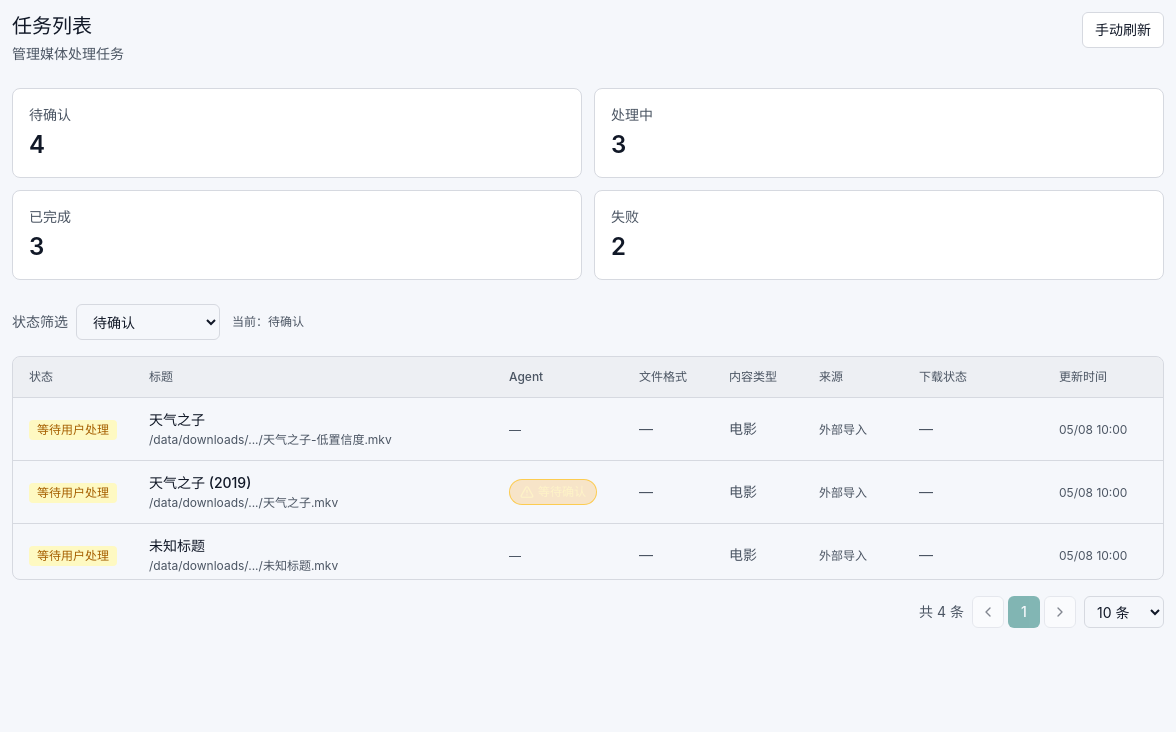
Test: TaskListPage › initializes filter from URL query param
This screenshot has width=1176, height=732.
Expected: the text "共 4 条" is shown, [919,602,964,622]
Note: 用户切换到"已完成"
Select "已完成" in the dropdown labelled "状态筛选" at (148, 322), box [76,304,220,340]
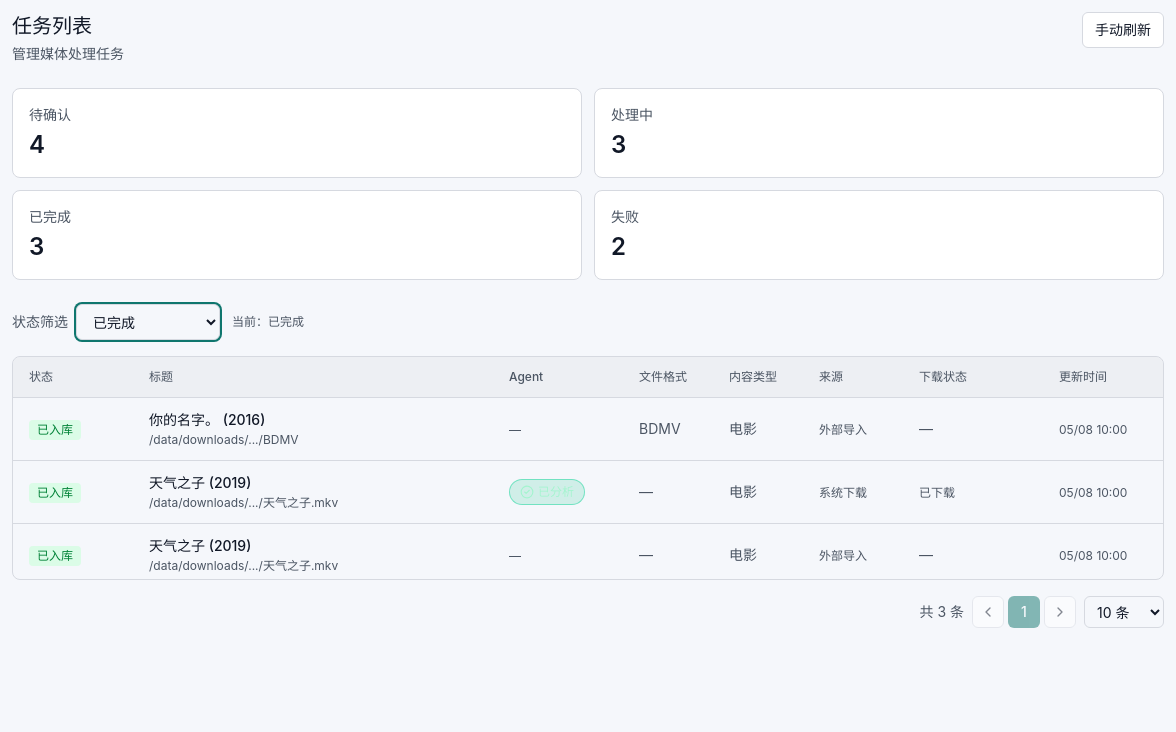
Now the text "共 3 条" is shown, box [920,602,964,622]
